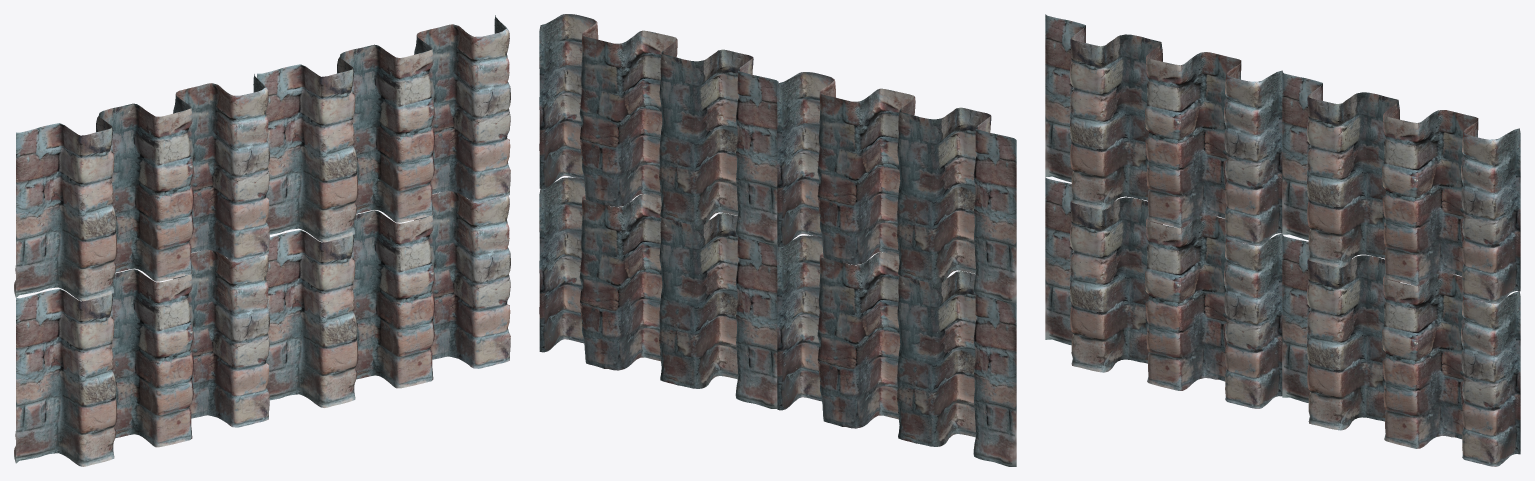
The model's file is Wall.fbx.
3 renders of one model, left to right at view 1: azimuth 30°, elevation 25°; view 2: azimuth 150°, elevation 25°; view 3: azimuth 330°, elevation 25°, orthographic.
Visible parts, largest first — view 1: Retopo_3DModel_mesh; view 2: Retopo_3DModel_mesh; view 3: Retopo_3DModel_mesh.
Part boxes in pixels (x1=…): Retopo_3DModel_mesh: x1=14, y1=15, x2=510, y2=466; Retopo_3DModel_mesh: x1=539, y1=14, x2=1016, y2=466; Retopo_3DModel_mesh: x1=1045, y1=14, x2=1520, y2=466.
Bounding box in the file's own units: 150 × 98.83 × 13.18.
